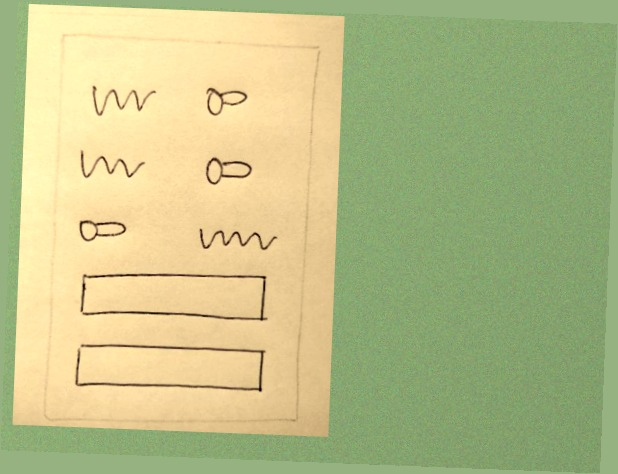switch: (74, 211, 133, 254), (200, 80, 252, 124), (200, 154, 257, 190)
text: (193, 220, 281, 259), (75, 146, 151, 184), (85, 84, 157, 118)
text_input: (72, 266, 279, 332), (69, 338, 271, 404)
